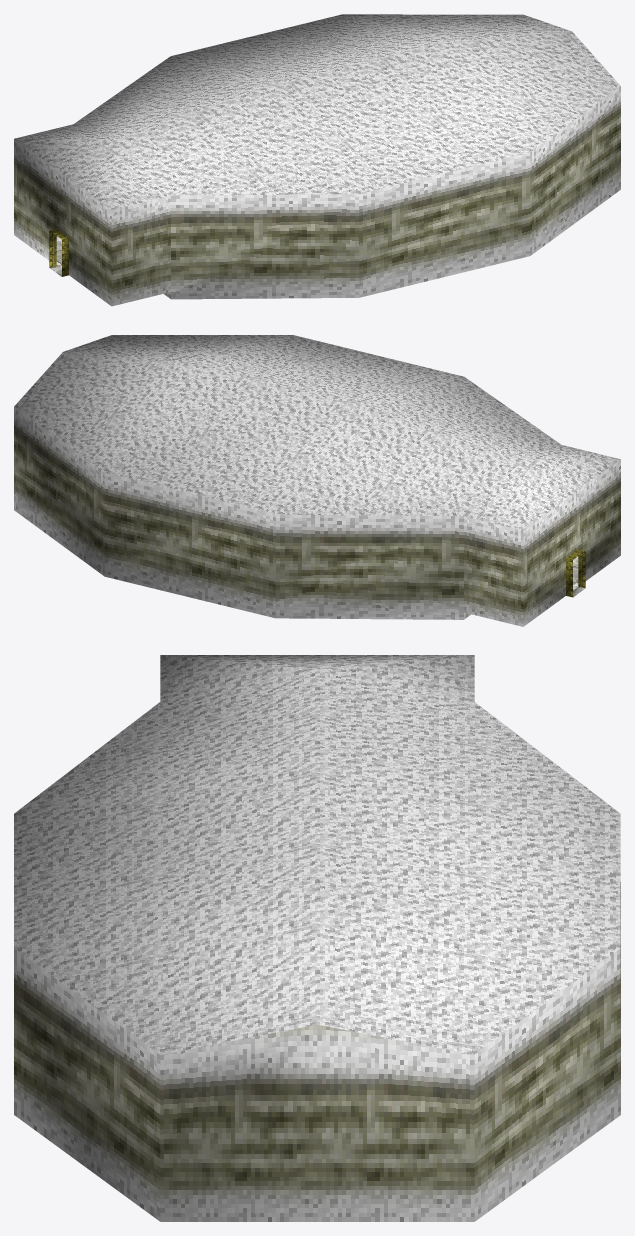
The model's file is Floor_2_Jan09_Edit_Room7.obj.
The picture shows the model from 3 angles, top to bottom: view 1: azimuth 30°, elevation 25°; view 2: azimuth 150°, elevation 25°; view 3: azimuth 270°, elevation 25°; orthographic projection. The views are drawn at different scales.
Parts seen in each view (by area): view 1: Floor2#Room7; view 2: Floor2#Room7; view 3: Floor2#Room7.
Boxes of the visible parts, x1,y1,x2,y2 form: Floor2#Room7: (14,14,620,306); Floor2#Room7: (14,335,620,626); Floor2#Room7: (14,655,620,1221).
Size of the model in its own units: 1442 by 380 by 912.
Materials: 4 (4 with a texture image).
